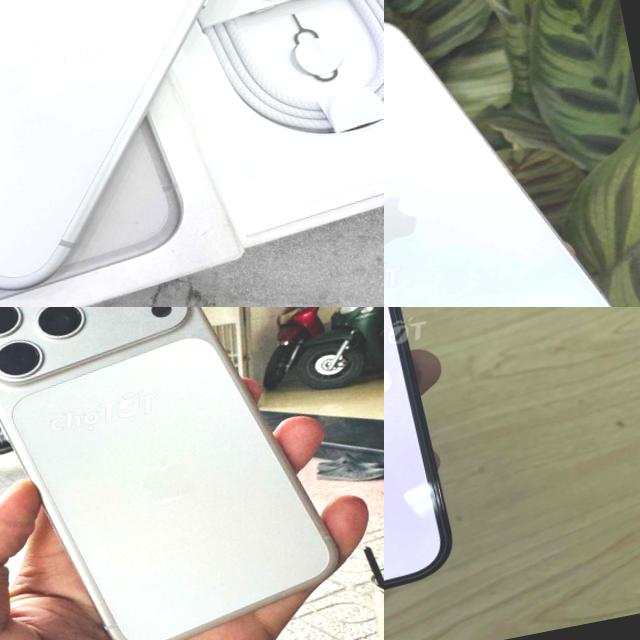gen_14: (384, 0, 640, 307), (384, 307, 466, 640)
gen_17: (0, 307, 351, 640), (0, 0, 348, 307)
